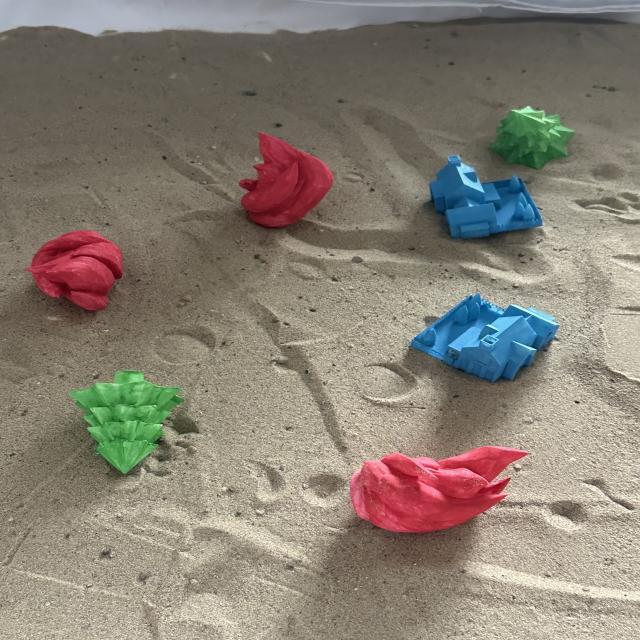fire: (348, 444, 530, 534), (236, 130, 334, 229), (24, 228, 124, 312)
house: (408, 291, 560, 383), (427, 153, 544, 240)
tree: (68, 368, 186, 476), (494, 105, 570, 167)
